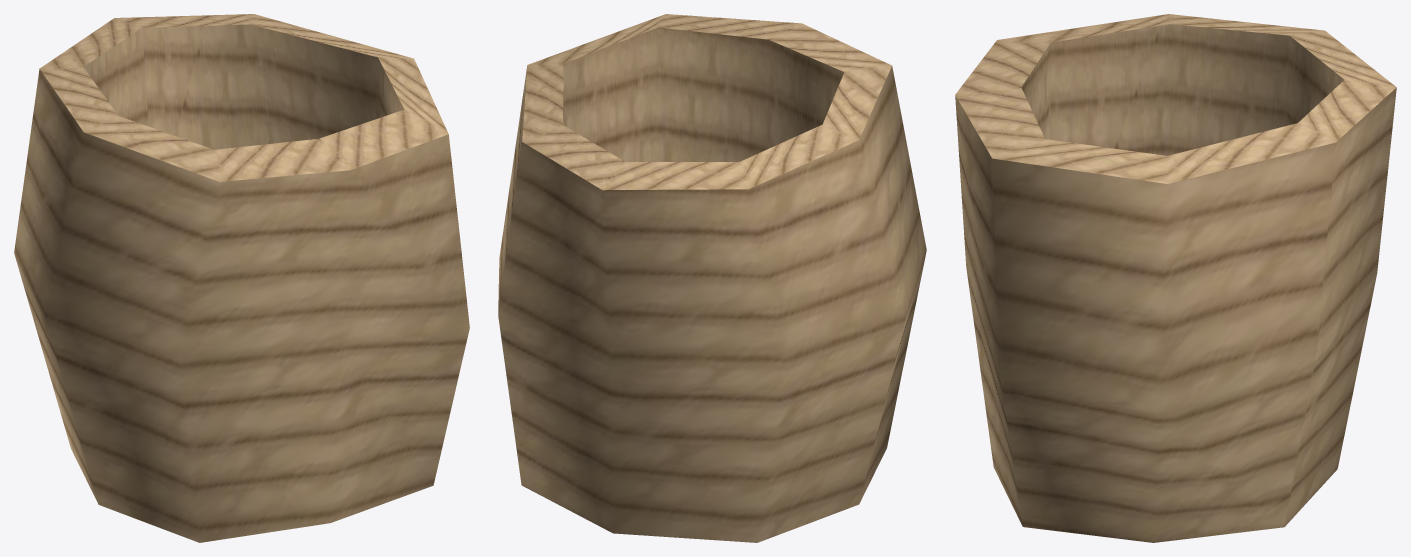
File: SM_PROP_basket_02.glb
3 views of the same model, side by side, from view 1: azimuth 30°, elevation 25°; view 2: azimuth 150°, elevation 25°; view 3: azimuth 270°, elevation 25° (orthographic).
Visible parts, largest first — view 1: SM_PROP_basket_02_EXPORT; view 2: SM_PROP_basket_02_EXPORT; view 3: SM_PROP_basket_02_EXPORT.
Part boxes in pixels (x1,y1,x2,y2): SM_PROP_basket_02_EXPORT: [14, 14, 469, 542]; SM_PROP_basket_02_EXPORT: [498, 14, 926, 542]; SM_PROP_basket_02_EXPORT: [955, 14, 1396, 542].
Size of the model in its own units: 0.5084 by 0.4532 by 0.4738.
1 material, 1 textured.
